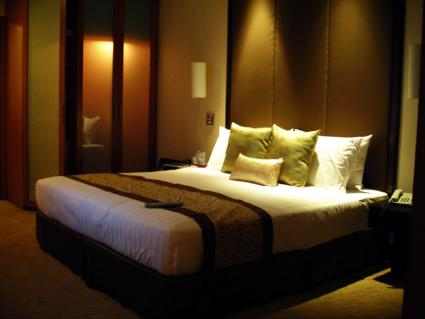bed: (35, 130, 390, 319)
